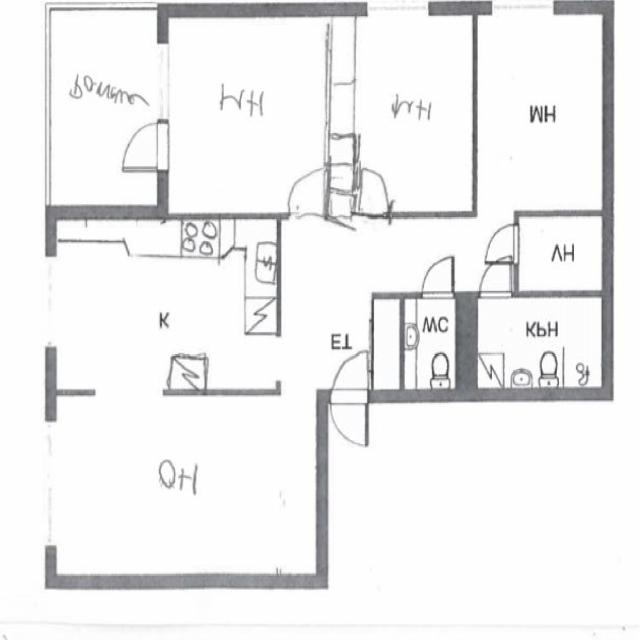door: (118, 123, 168, 172), (331, 342, 369, 402), (331, 388, 369, 448), (289, 169, 324, 218), (359, 173, 391, 218), (422, 254, 453, 297), (484, 225, 519, 263), (481, 255, 511, 298)
